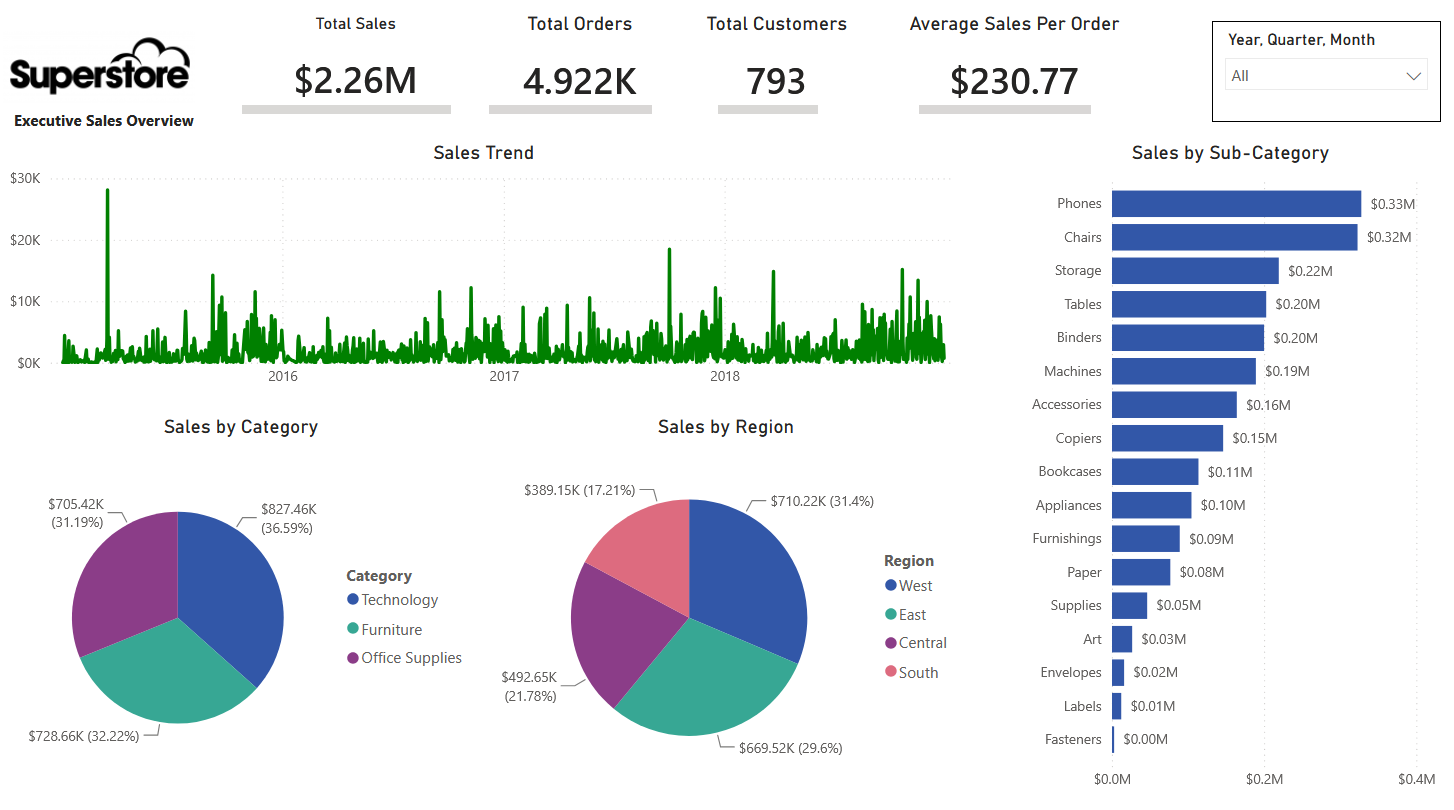

The page's visual inventory and layout, read from the dashboard file:
{"tool":"powerbi","page":{"name":"Executive Sales Overview","canvas":[1280,720],"ordinal":0},"visuals":[{"type":"cardVisual","title":"Total Sales","fields":{"Data":["Sum(Super Store Dataset.Sales)"]},"box":[200,16,232,96],"z":0},{"type":"cardVisual","title":"Total Orders","fields":{"Data":["Count(Super Store Dataset.Order ID)"]},"box":[416,16,192,96],"z":1000},{"type":"cardVisual","title":"Total Customers","fields":{"Data":["Super Store Dataset.Total Customers"]},"box":[616,16,136,96],"z":2000},{"type":"cardVisual","title":"Average Sales Per Order","fields":{"Data":["Avg(Super Store Dataset.Sales)"]},"box":[792,16,200,96],"z":3000},{"type":"pieChart","title":"Sales by Category","fields":{"Category":["Super Store Dataset.Category"],"Y":["Sum(Super Store Dataset.Sales)"]},"box":[8,368,416,336],"z":4000},{"type":"barChart","title":"Sales by Sub-Category","fields":{"Category":["Super Store Dataset.Sub-Category"],"Y":["Sum(Super Store Dataset.Sales)"]},"box":[896,128,368,576],"z":5000},{"type":"pieChart","title":"Sales by Region","fields":{"Category":["Super Store Dataset.Region"],"Y":["Sum(Super Store Dataset.Sales)"]},"box":[432,368,416,336],"z":6000},{"type":"lineChart","title":"Sales Trend","fields":{"Y":["Sum(Super Store Dataset.Sales)"],"Category":["Super Store Dataset.Order Date"]},"box":[8,128,840,224],"z":7000},{"type":"slicer","title":"Filter by","fields":{"Values":["Super Store Dataset.Order Date Hierarchy.Year","Super Store Dataset.Order Date Hierarchy.Quarter","Super Store Dataset.Order Date Hierarchy.Month"]},"box":[1064,24,200,88],"z":8000},{"type":"image","box":[8,16,168,96],"z":9000},{"type":"textbox","box":[0,96,192,32],"z":10000}]}

Visuals, with their boxes in screenshot pixels (x1, y1, x2, y2), scaled from the page's 1280x720 canvas onto the 1454x810 screenshot:
"Total Sales" cardVisual: 227/18/491/126
"Total Orders" cardVisual: 473/18/691/126
"Total Customers" cardVisual: 700/18/854/126
"Average Sales Per Order" cardVisual: 900/18/1127/126
"Sales by Category" pieChart: 9/414/482/792
"Sales by Sub-Category" barChart: 1018/144/1436/792
"Sales by Region" pieChart: 491/414/963/792
"Sales Trend" lineChart: 9/144/963/396
"Filter by" slicer: 1209/27/1436/126
image: 9/18/200/126
textbox: 0/108/218/144
